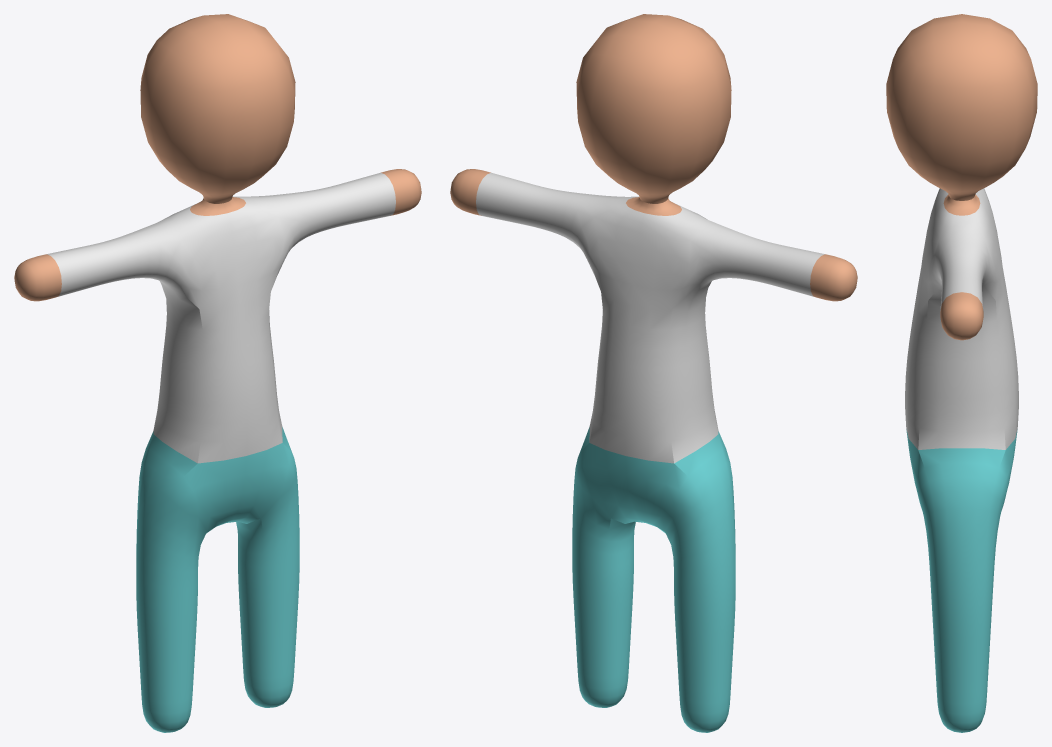
Rendered from Char.fbx.
3 renders of one model, left to right at view 1: azimuth 30°, elevation 25°; view 2: azimuth 150°, elevation 25°; view 3: azimuth 270°, elevation 25°, orthographic.
Visible parts, largest first — view 1: Char; view 2: Char; view 3: Char.
Part boxes in pixels (<box>): Char: <box>14,14,421,732</box>; Char: <box>450,14,857,732</box>; Char: <box>886,14,1037,732</box>.
Size of the model in its own units: 76.93 by 128 by 25.65.
